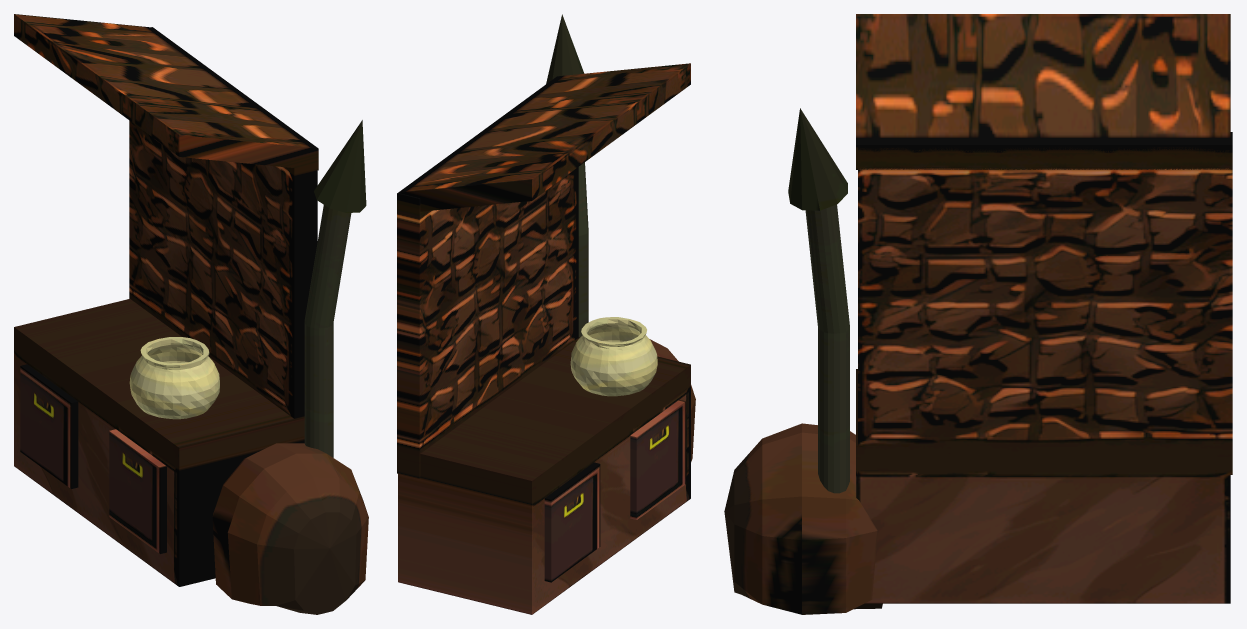
The model's file is Coffee.glb.
The picture shows the model from 3 angles, left to right: view 1: azimuth 30°, elevation 25°; view 2: azimuth 150°, elevation 25°; view 3: azimuth 270°, elevation 25°; orthographic projection. The views are drawn at different scales.
Visible parts, largest first — view 1: Coffee; view 2: Coffee; view 3: Coffee.
Part boxes in pixels (x1,y1,x2,y2): Coffee: (14,14,368,614); Coffee: (397,14,695,614); Coffee: (724,14,1232,614).
Bounding box in the file's own units: 1040 × 2651 × 2307.
1 material, 1 textured.
